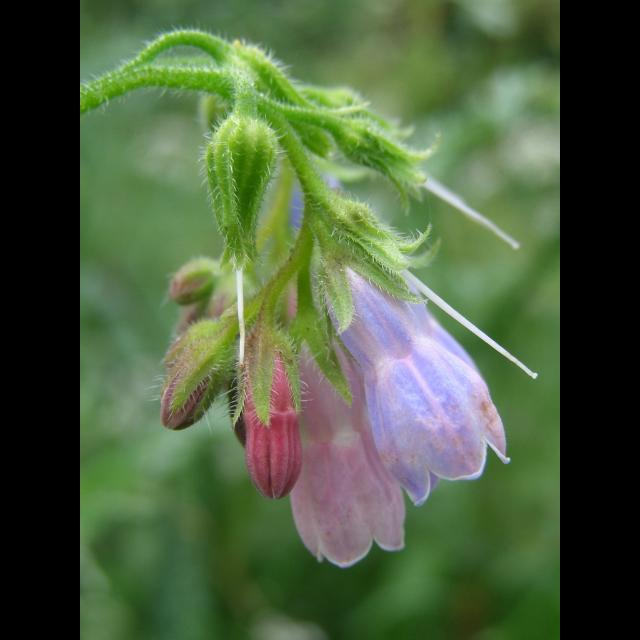Flower: (316, 209, 498, 503), (286, 274, 408, 568), (234, 312, 302, 498)
